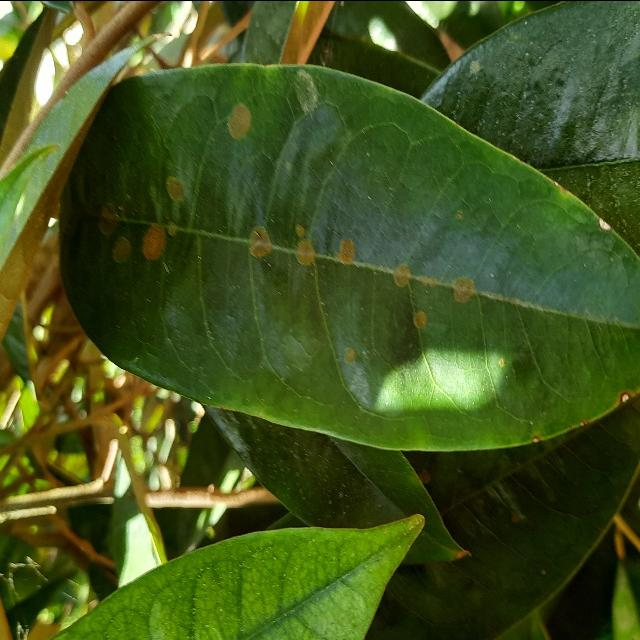Algal Leaf Spot: (49, 55, 640, 461)
